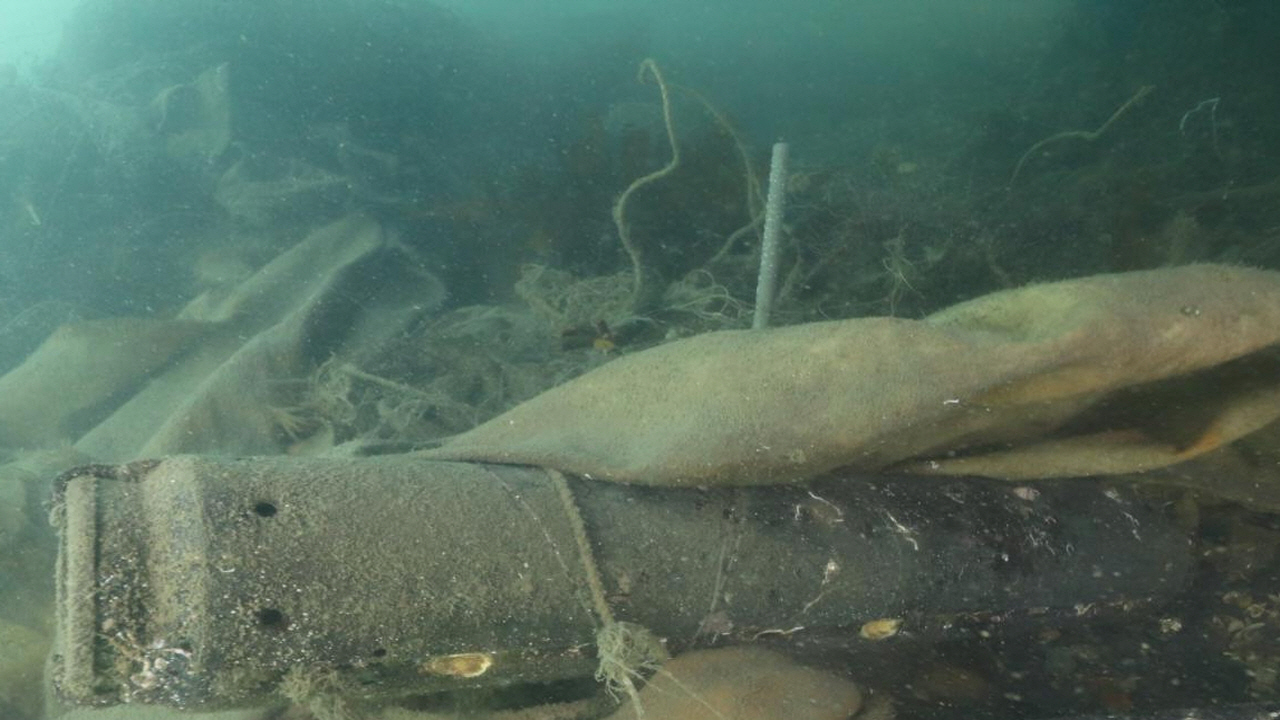bundle of ropes: (612, 56, 803, 301)
eel fish trap: (49, 453, 1202, 720)
rope: (541, 462, 645, 720)
